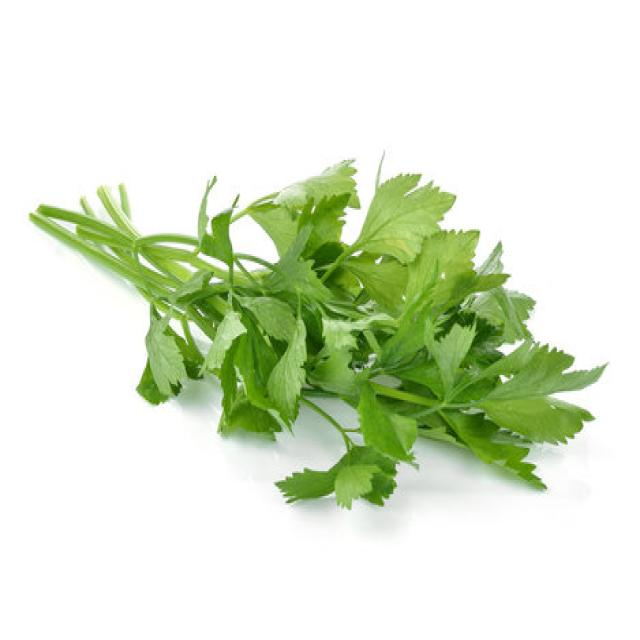Coriander Leaves: (27, 150, 609, 510)
